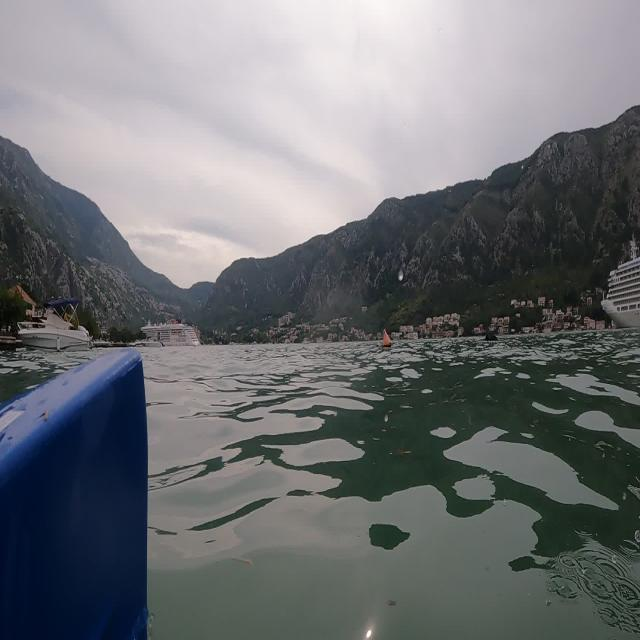boat: (14, 288, 99, 362), (123, 307, 208, 361), (600, 232, 640, 332)
